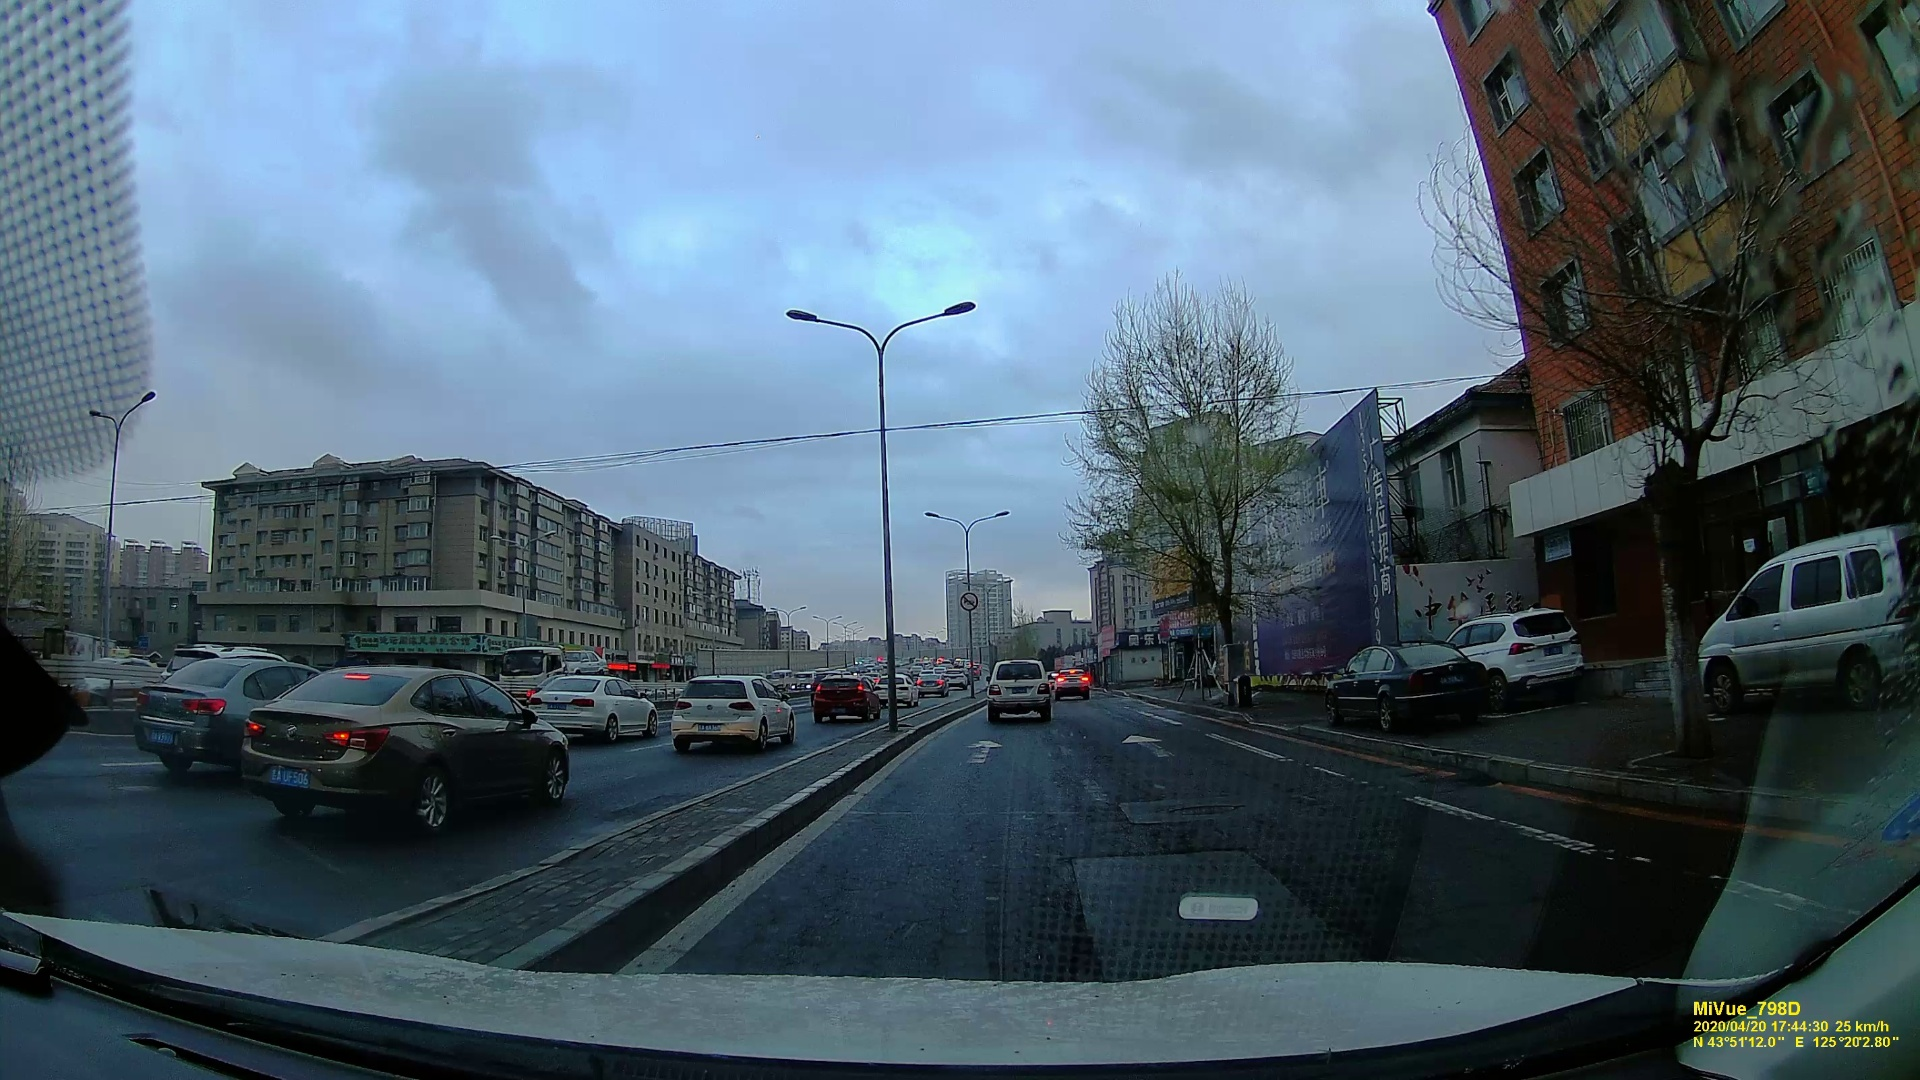minibus: (1695, 525, 1920, 717)
vehicle: (232, 654, 572, 829), (135, 647, 307, 779), (1323, 642, 1486, 738), (1449, 612, 1581, 712), (669, 673, 796, 752), (522, 673, 657, 741), (986, 657, 1050, 723), (808, 674, 880, 723), (1052, 666, 1091, 694)
